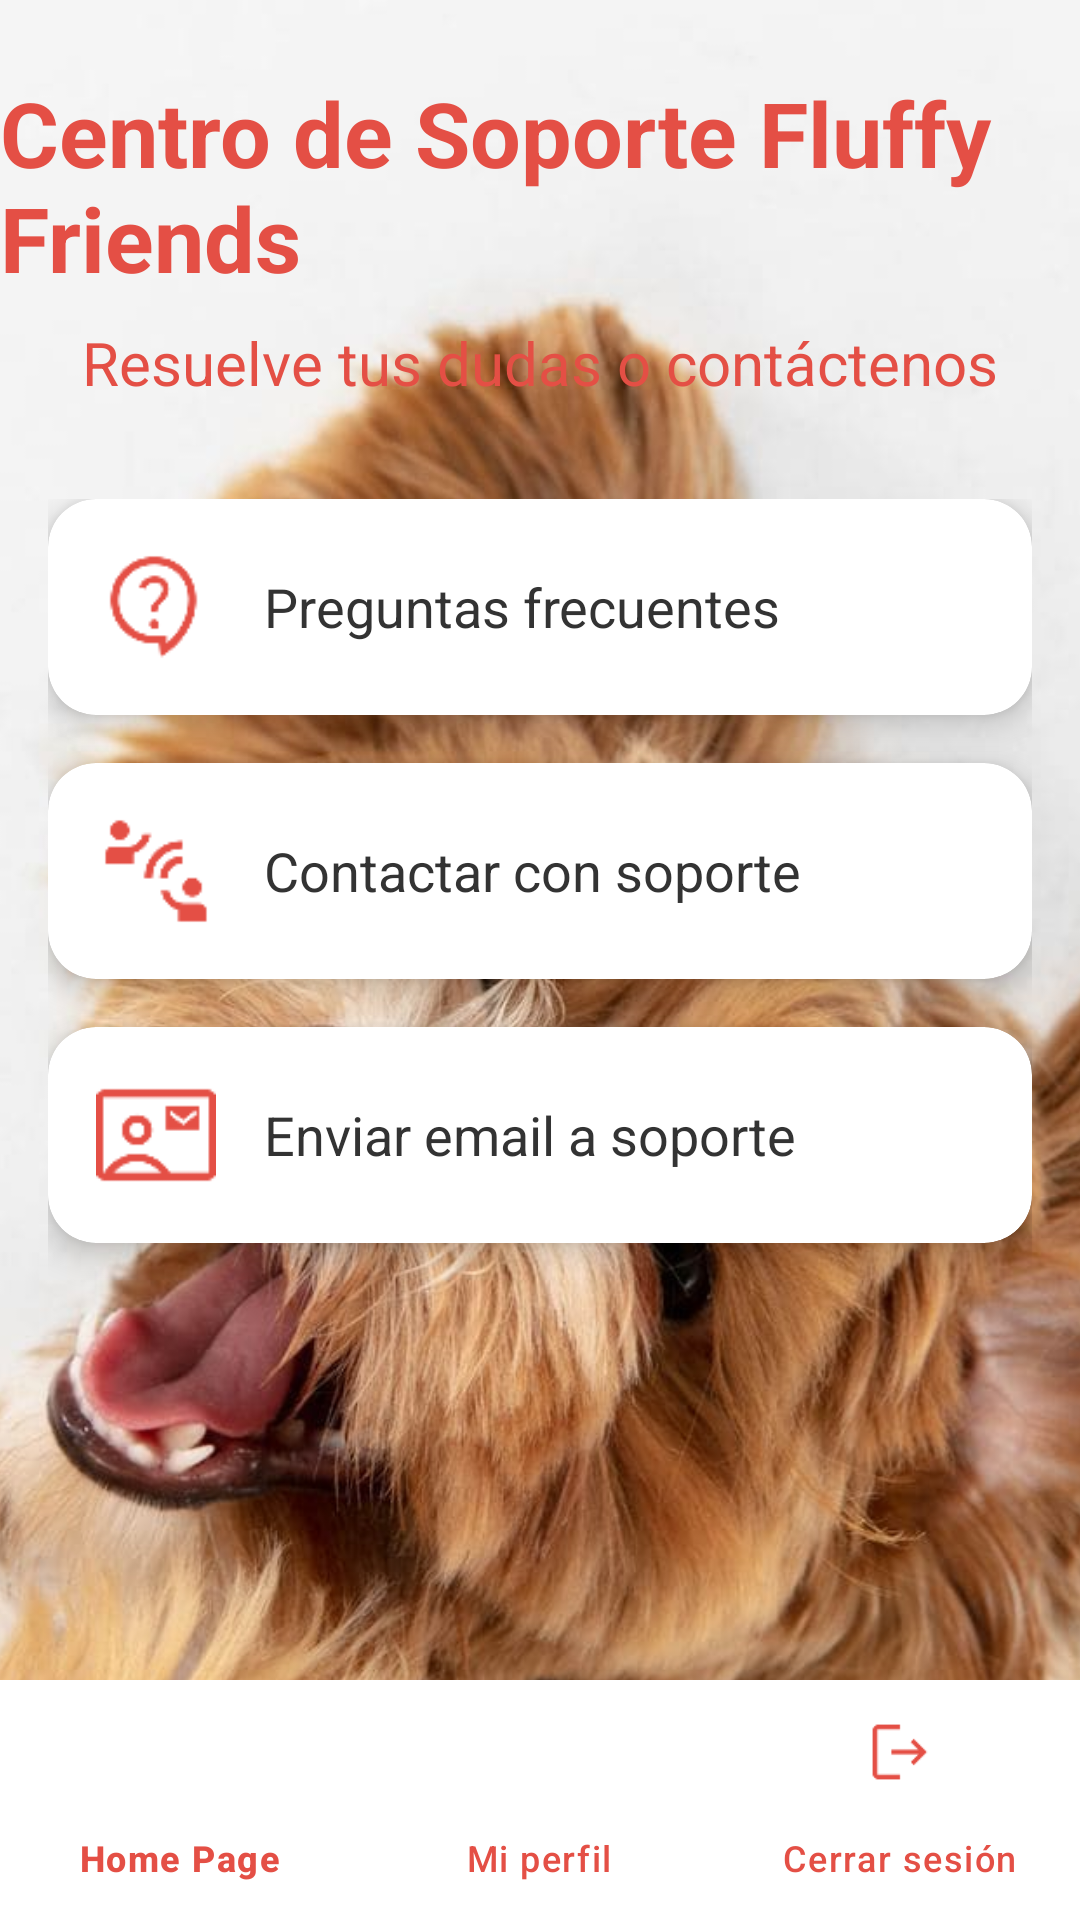

Icon click points for this 1080w x 1920h phone screenshot, format (x,y):
faqs: (154,606)
